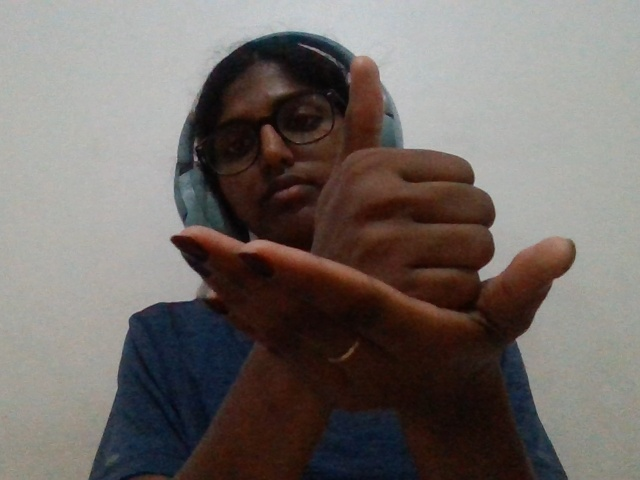Help: (98, 40, 616, 480)
